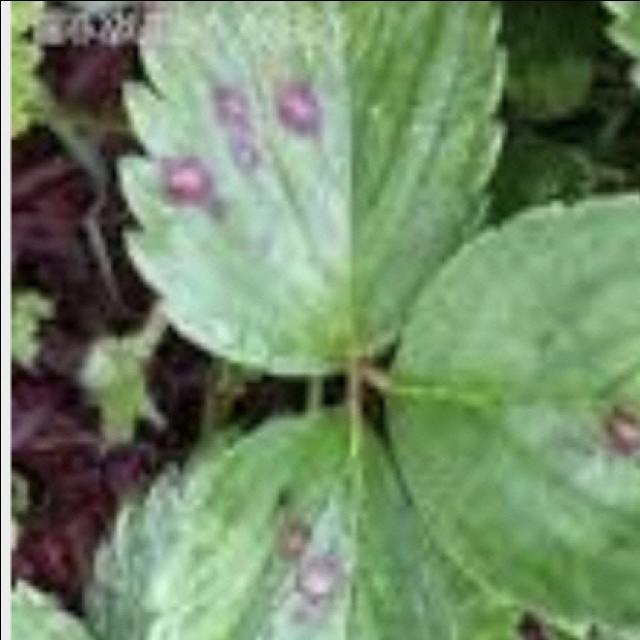Leaf Spot: (110, 2, 507, 377), (79, 398, 577, 640), (382, 186, 640, 640)
